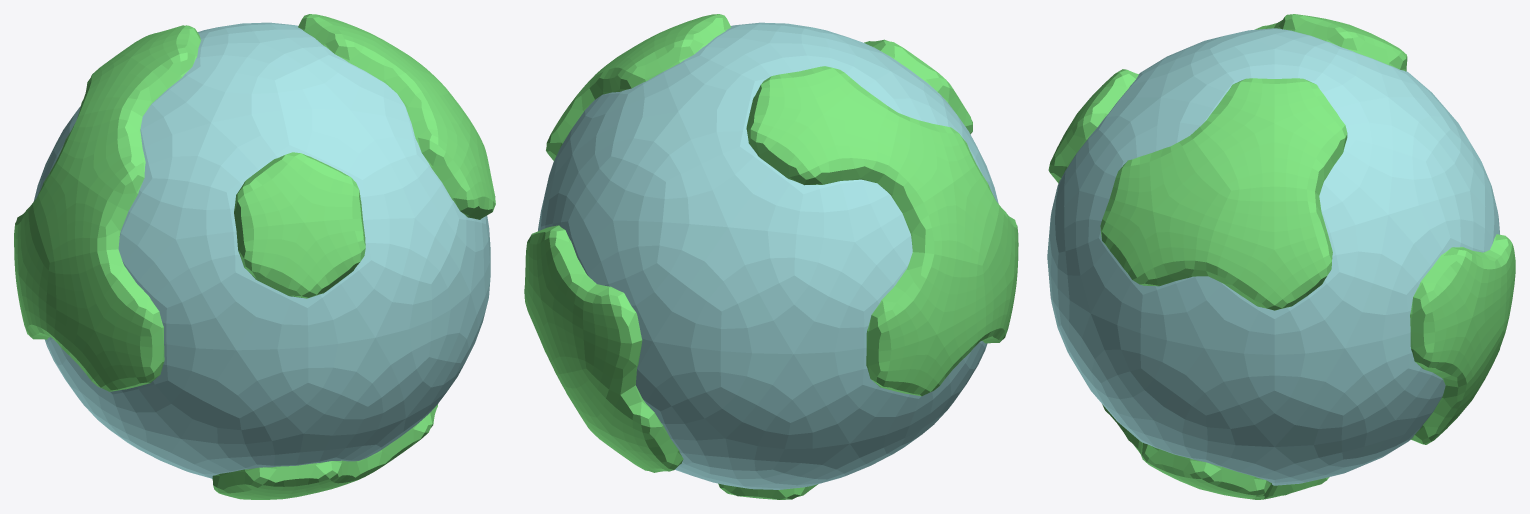
Rendered from Earth.glb.
The picture shows the model from 3 angles, left to right: view 1: azimuth 30°, elevation 25°; view 2: azimuth 150°, elevation 25°; view 3: azimuth 270°, elevation 25°; orthographic projection. The views are drawn at different scales.
Visible parts, largest first — view 1: Water, Earth; view 2: Water, Earth; view 3: Water, Earth.
Boxes of the visible parts, x1=… form: Water: x1=33, y1=22, x2=490, y2=478; Earth: x1=14, y1=14, x2=495, y2=499; Water: x1=538, y1=22, x2=998, y2=489; Earth: x1=524, y1=14, x2=1018, y2=499; Water: x1=1047, y1=28, x2=1499, y2=485; Earth: x1=1048, y1=14, x2=1515, y2=499.
Bounding box in the file's own units: 2.14 × 2.11 × 2.08.
